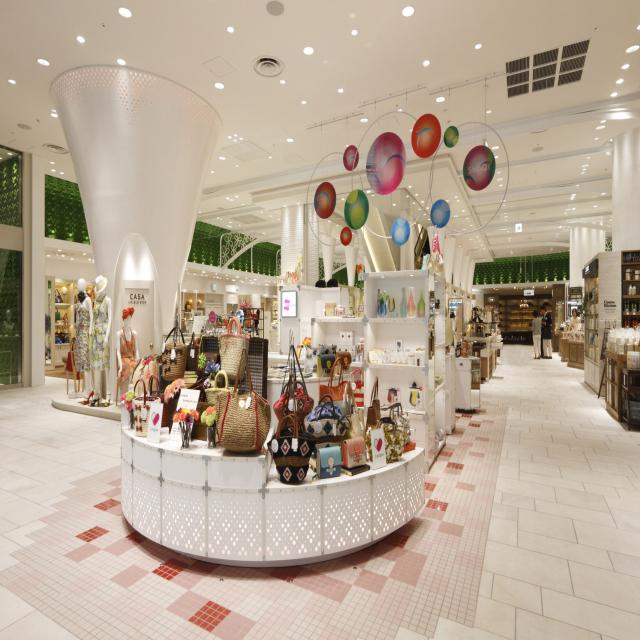body: (72, 274, 148, 416), (538, 304, 553, 360), (0, 308, 16, 350), (528, 308, 541, 359), (568, 308, 582, 331), (538, 308, 544, 358), (254, 309, 260, 335), (215, 316, 223, 331), (449, 312, 456, 318)
